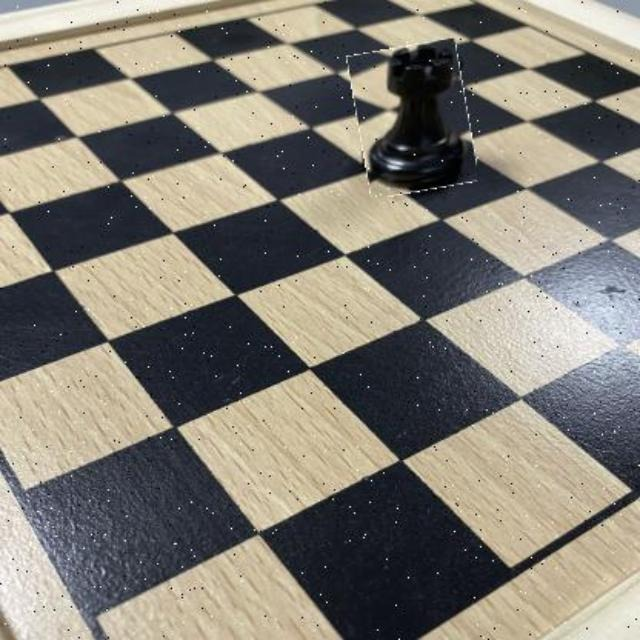black-rook: (352, 42, 473, 194)
